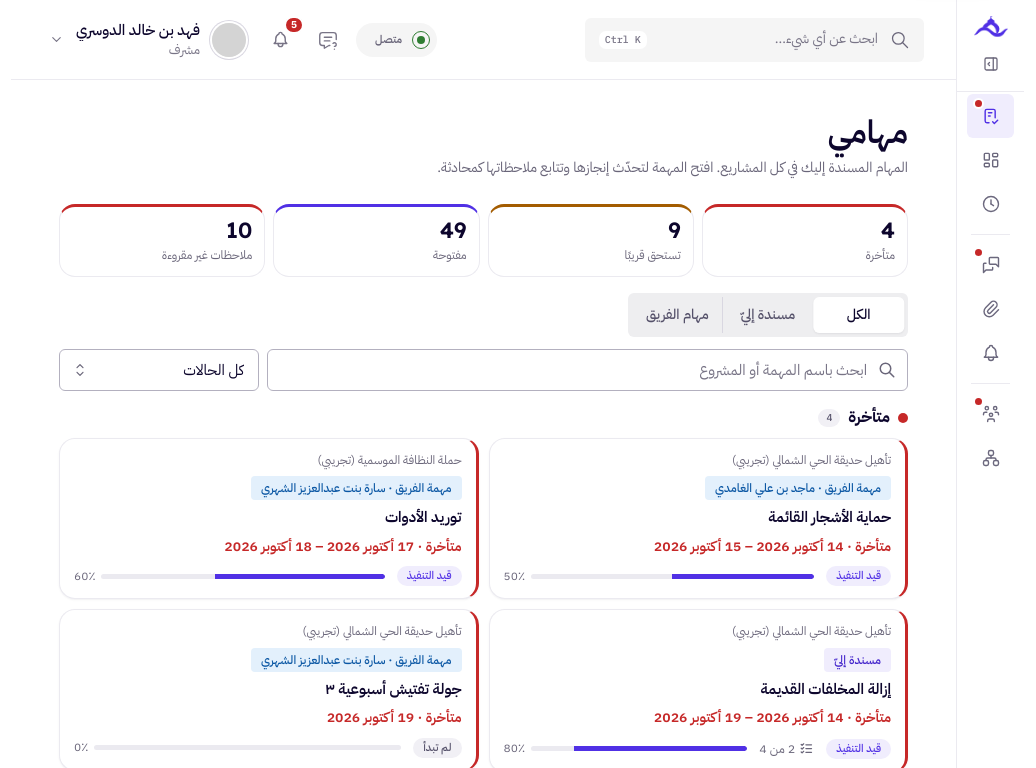
Scenario: supervisor scope (ADR-092) › lists the assigned tasks in «مهامي» without links to projects, and opens the chat page
Step 1. Click the link with aria-label "حماية الأشجار القائمة" → (811, 460), box 488,438 -> 908,600
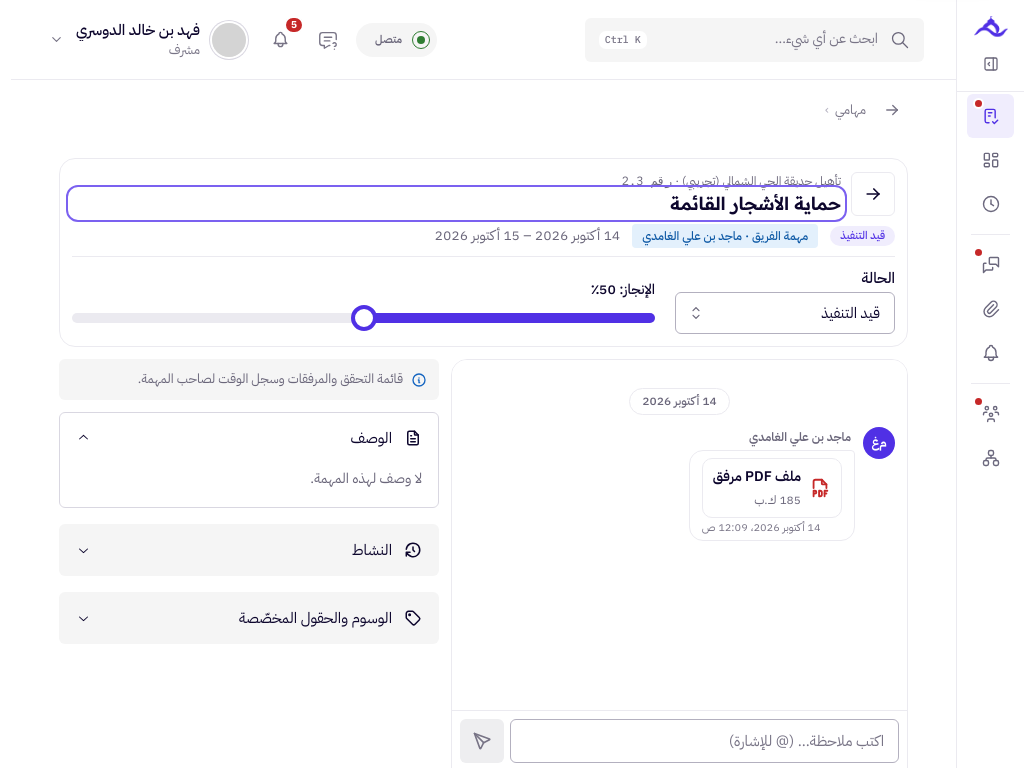
Expected: the heading "حماية الأشجار القائمة" is shown, 670,192 -> 841,215
Now the element named "رسائل المهمة" is shown, box 452,360 -> 907,710
